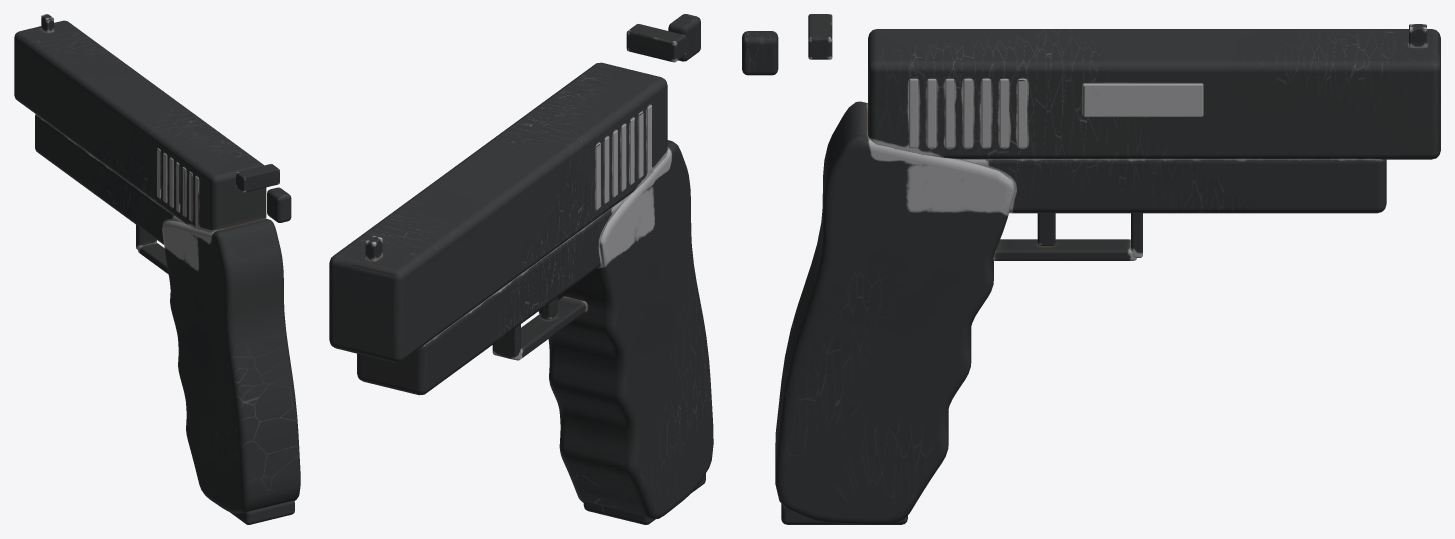
The picture shows the model from 3 angles, left to right: view 1: azimuth 30°, elevation 25°; view 2: azimuth 150°, elevation 25°; view 3: azimuth 270°, elevation 25°; orthographic projection. The views are drawn at different scales.
Parts seen in each view (by area): view 1: Frame, Mag_body; view 2: Frame, Mag_body; view 3: Frame.
Part boxes in pixels (x1,y1,x2,y2): Frame: (14, 14, 300, 513); Mag_body: (230, 500, 294, 524); Frame: (329, 14, 713, 519); Mag_body: (583, 473, 705, 524); Frame: (742, 14, 1440, 524).
Size of the model in its own units: 0.0317 by 0.1771 by 0.2318.
3 materials, 3 textured.
